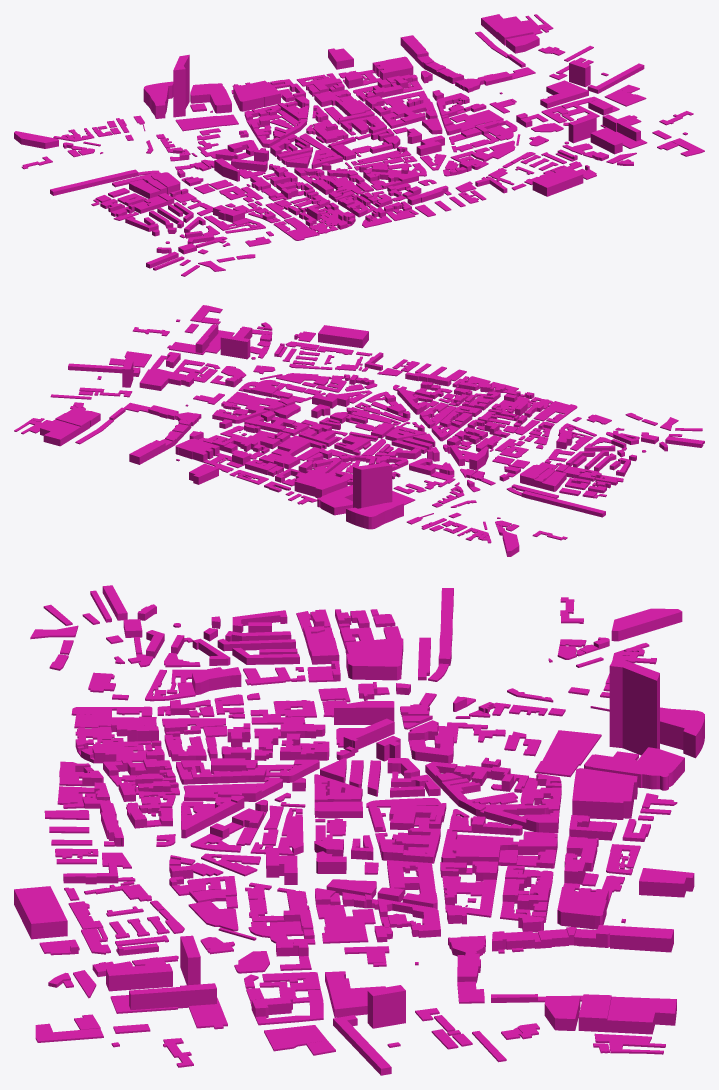
Rendered from old_street2.obj.
The picture shows the model from 3 angles, top to bottom: view 1: azimuth 30°, elevation 25°; view 2: azimuth 150°, elevation 25°; view 3: azimuth 270°, elevation 25°; orthographic projection. The views are drawn at different scales.
Visible parts, largest first — view 1: old_street2; view 2: old_street2; view 3: old_street2.
Part boxes in pixels (x1=…): old_street2: x1=14, y1=14, x2=704, y2=276; old_street2: x1=14, y1=305, x2=704, y2=556; old_street2: x1=14, y1=585, x2=704, y2=1075.
Size of the model in its own units: 2117 by 165 by 1278.
